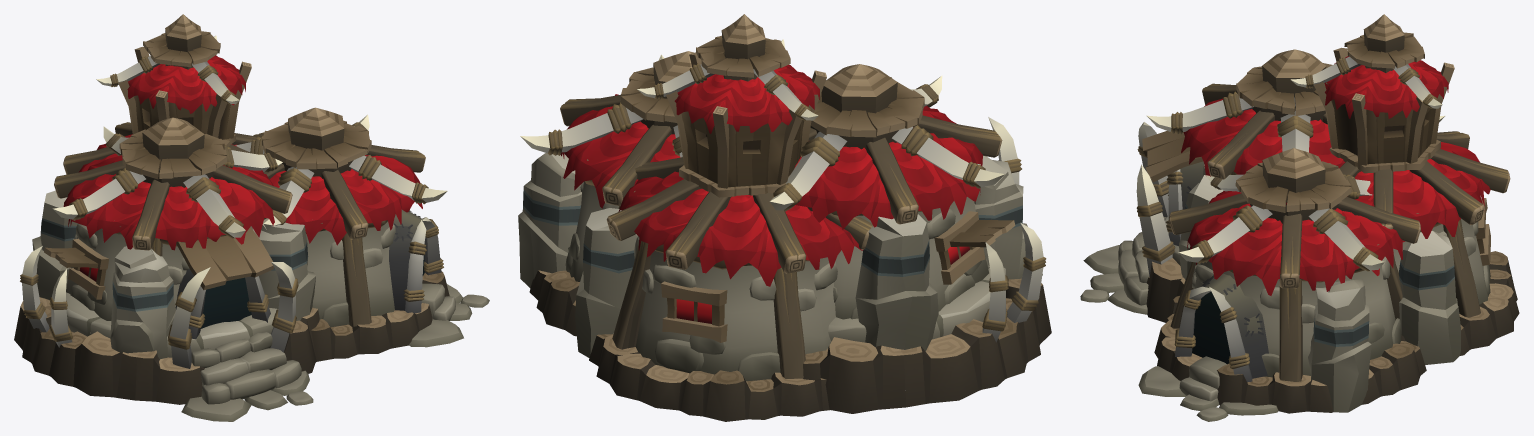
Rendered from orc_house_Lv3.fbx.
The picture shows the model from 3 angles, left to right: view 1: azimuth 30°, elevation 25°; view 2: azimuth 150°, elevation 25°; view 3: azimuth 270°, elevation 25°; orthographic projection. The views are drawn at different scales.
Parts seen in each view (by area): view 1: orc_hut_Lv3; view 2: orc_hut_Lv3; view 3: orc_hut_Lv3.
Part boxes in pixels (left/top/right/bottom): orc_hut_Lv3: left=14, top=14, right=489, bottom=421; orc_hut_Lv3: left=518, top=14, right=1051, bottom=421; orc_hut_Lv3: left=1080, top=14, right=1519, bottom=421.
Bounding box in the file's own units: 13.82 × 9 × 12.1.
